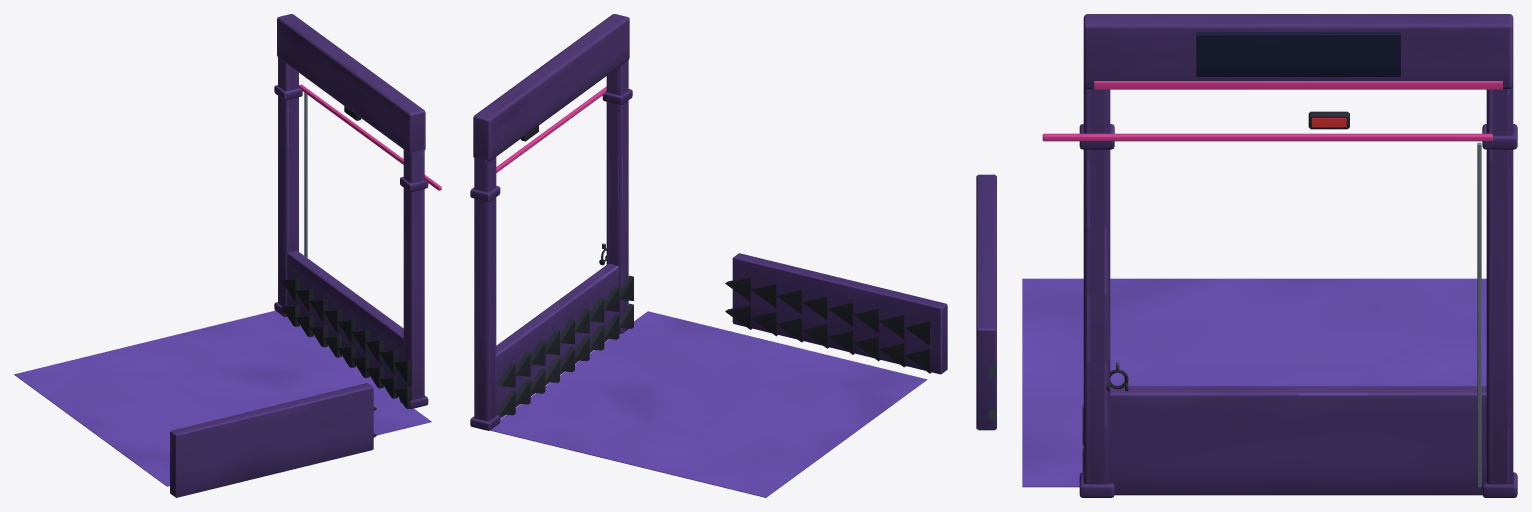
The model's file is SM_Stage4_SoundBooth.fbx.
The picture shows the model from 3 angles, left to right: view 1: azimuth 30°, elevation 25°; view 2: azimuth 150°, elevation 25°; view 3: azimuth 270°, elevation 25°; orthographic projection. The views are drawn at different scales.
Parts seen in each view (by area): view 1: SM_Stage4_SoundBooth; view 2: SM_Stage4_SoundBooth; view 3: SM_Stage4_SoundBooth.
Boxes of the visible parts, x1,y1,x2,y2 form: SM_Stage4_SoundBooth: [14, 14, 441, 497]; SM_Stage4_SoundBooth: [470, 14, 947, 497]; SM_Stage4_SoundBooth: [976, 14, 1517, 497].
Bounding box in the file's own units: 526 × 512 × 529.
